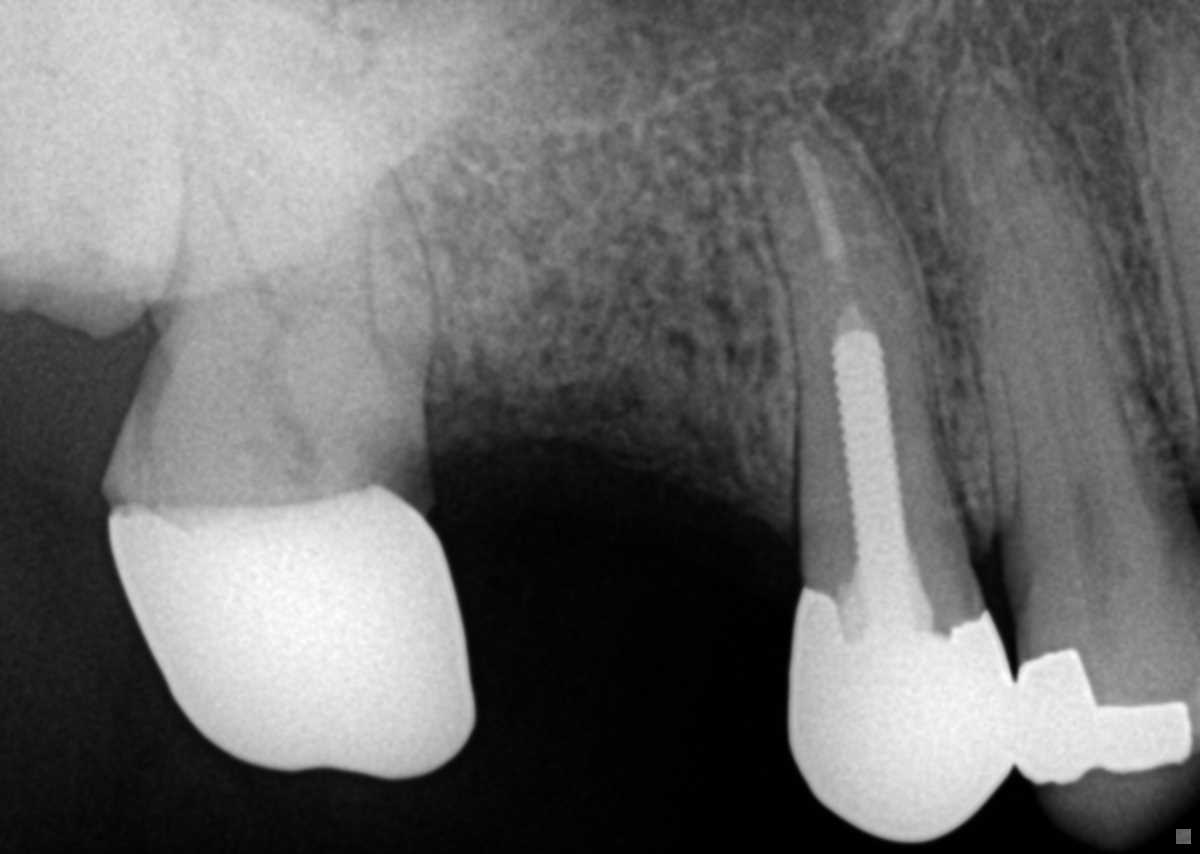Distal Root: (110, 4, 281, 357)
Main Canal: (1019, 245, 1116, 555)
Main Root: (924, 63, 1195, 576), (743, 104, 965, 546), (1136, 8, 1200, 408)
Mesial Root: (242, 56, 442, 415)
Palatal Root: (167, 0, 377, 359)
Root Canal Filling: (790, 138, 859, 311)
decay: (348, 414, 433, 512)
